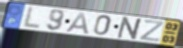0: (92, 14, 113, 37)
9: (46, 9, 65, 33)
A: (65, 11, 92, 36)
L: (21, 6, 42, 31)
N: (115, 16, 145, 41)
Z: (138, 19, 165, 43)
